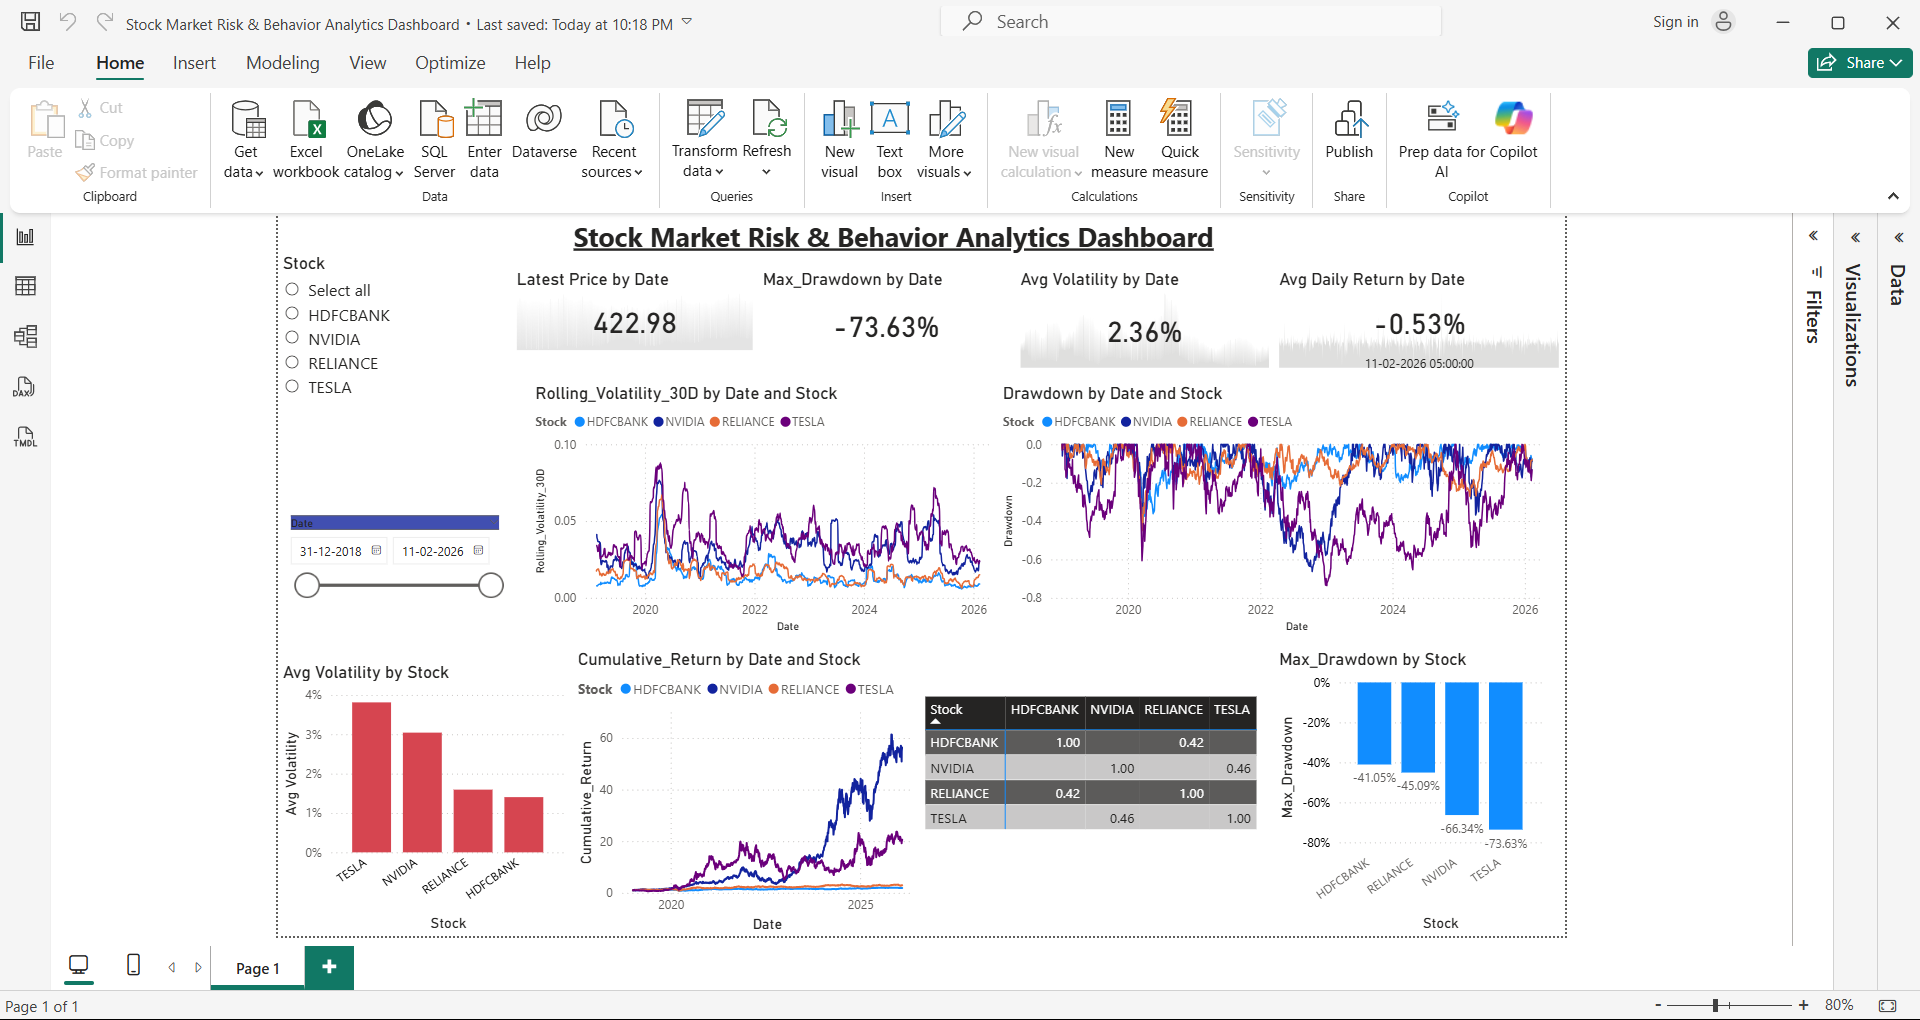

What the dashboard file says about the page in this screenshot:
{"tool":"powerbi","page":{"name":"Page 1","canvas":[1280,720],"ordinal":0},"visuals":[{"type":"lineChart","fields":{"Y":["Sum(stock_analytics_data.Cumulative_Return)"],"Series":["stock_analytics_data.Stock"],"Category":["stock_analytics_data.Date"]},"box":[293.6,434.1,345.8,286.1],"z":0},{"type":"columnChart","fields":{"Category":["max_drawdown.Stock"],"Y":["Min(max_drawdown.Max_Drawdown)"]},"box":[991.4,434.1,271.2,286.1],"z":1000},{"type":"lineChart","fields":{"Y":["Sum(stock_analytics_data.Rolling_Volatility_30D)"],"Series":["stock_analytics_data.Stock"],"Category":["stock_analytics_data.Date"]},"box":[251.3,169.2,465.2,253.8],"z":2000},{"type":"clusteredColumnChart","fields":{"Category":["stock_analytics_data.Stock"],"Y":["stock_analytics_data.Avg Volatility"]},"box":[0,446.6,291.1,273.7],"z":3000},{"type":"lineChart","fields":{"Y":["Sum(stock_analytics_data.Drawdown)"],"Series":["stock_analytics_data.Stock"],"Category":["stock_analytics_data.Date"]},"box":[716.5,169.2,549.8,253.8],"z":4000},{"type":"pivotTable","fields":{"Rows":["stock_correlation_matrix.Stock"],"Columns":["stock_correlation_matrix.Stock_column"],"Values":["Sum(stock_correlation_matrix.Correlation)"]},"box":[639.4,476.4,350.8,171.7],"z":5000},{"type":"listSlicer","fields":{"Values":["stock_analytics_data.Stock"]},"box":[0,39.8,141.8,221.4],"z":6000},{"type":"slicer","fields":{"Values":["stock_analytics_data.Date"]},"box":[0,296.1,232.6,108.2],"z":7000},{"type":"kpi","fields":{"Indicator":["stock_analytics_data.Latest Price","select"],"TrendLine":["stock_analytics_data.Date"]},"box":[232.6,56,245.1,85.8],"z":8000},{"type":"textbox","box":[194.1,0,837.2,53.5],"z":9000},{"type":"kpi","fields":{"Indicator":["stock_analytics_data.Avg Daily Return"],"TrendLine":["stock_analytics_data.Date"]},"box":[991.4,56,288.6,103.2],"z":10000},{"type":"kpi","fields":{"Indicator":["stock_analytics_data.Avg Volatility"],"TrendLine":["stock_analytics_data.Date"]},"box":[733.9,56,257.5,103.2],"z":11000},{"type":"kpi","fields":{"TrendLine":["stock_analytics_data.Date"],"Indicator":["Min(max_drawdown.Max_Drawdown)"]},"box":[477.7,56,255,93.3],"z":12000}]}

Visuals, with their boxes on the page's 1280x720 design canvas (x1, y1, x2, y2). These are canvas units, not pixel positions in the 1920x1020 screenshot, which may show the page scaled, cropped or inside an application window:
lineChart - Sum(stock_analytics_data.Cumulative_Return) x stock_analytics_data.Stock: left=294, top=434, right=639, bottom=720
columnChart - max_drawdown.Stock x Min(max_drawdown.Max_Drawdown): left=991, top=434, right=1263, bottom=720
lineChart - Sum(stock_analytics_data.Rolling_Volatility_30D) x stock_analytics_data.Stock: left=251, top=169, right=716, bottom=423
clusteredColumnChart - stock_analytics_data.Stock x stock_analytics_data.Avg Volatility: left=0, top=447, right=291, bottom=720
lineChart - Sum(stock_analytics_data.Drawdown) x stock_analytics_data.Stock: left=716, top=169, right=1266, bottom=423
pivotTable - stock_correlation_matrix.Stock x stock_correlation_matrix.Stock_column: left=639, top=476, right=990, bottom=648
listSlicer - stock_analytics_data.Stock: left=0, top=40, right=142, bottom=261
slicer - stock_analytics_data.Date: left=0, top=296, right=233, bottom=404
kpi - stock_analytics_data.Latest Price x select: left=233, top=56, right=478, bottom=142
textbox: left=194, top=0, right=1031, bottom=54
kpi - stock_analytics_data.Avg Daily Return x stock_analytics_data.Date: left=991, top=56, right=1280, bottom=159
kpi - stock_analytics_data.Avg Volatility x stock_analytics_data.Date: left=734, top=56, right=991, bottom=159
kpi - stock_analytics_data.Date x Min(max_drawdown.Max_Drawdown): left=478, top=56, right=733, bottom=149
